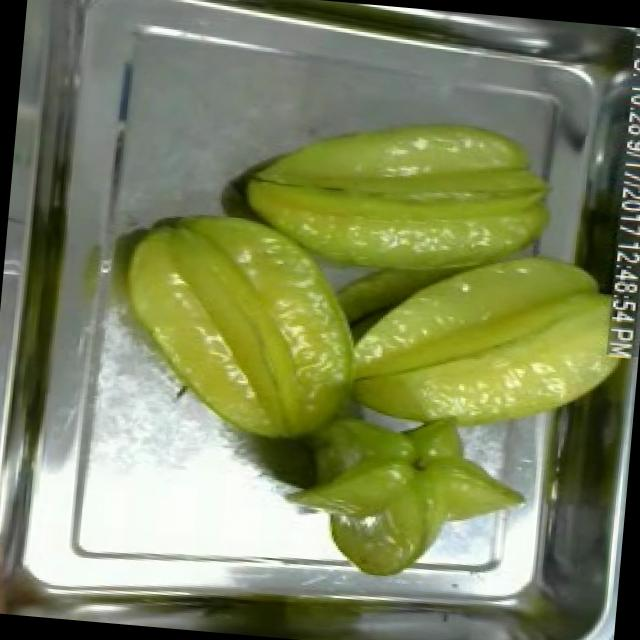fruit: (98, 186, 387, 456), (218, 92, 572, 308), (328, 222, 640, 453), (307, 420, 538, 594)
